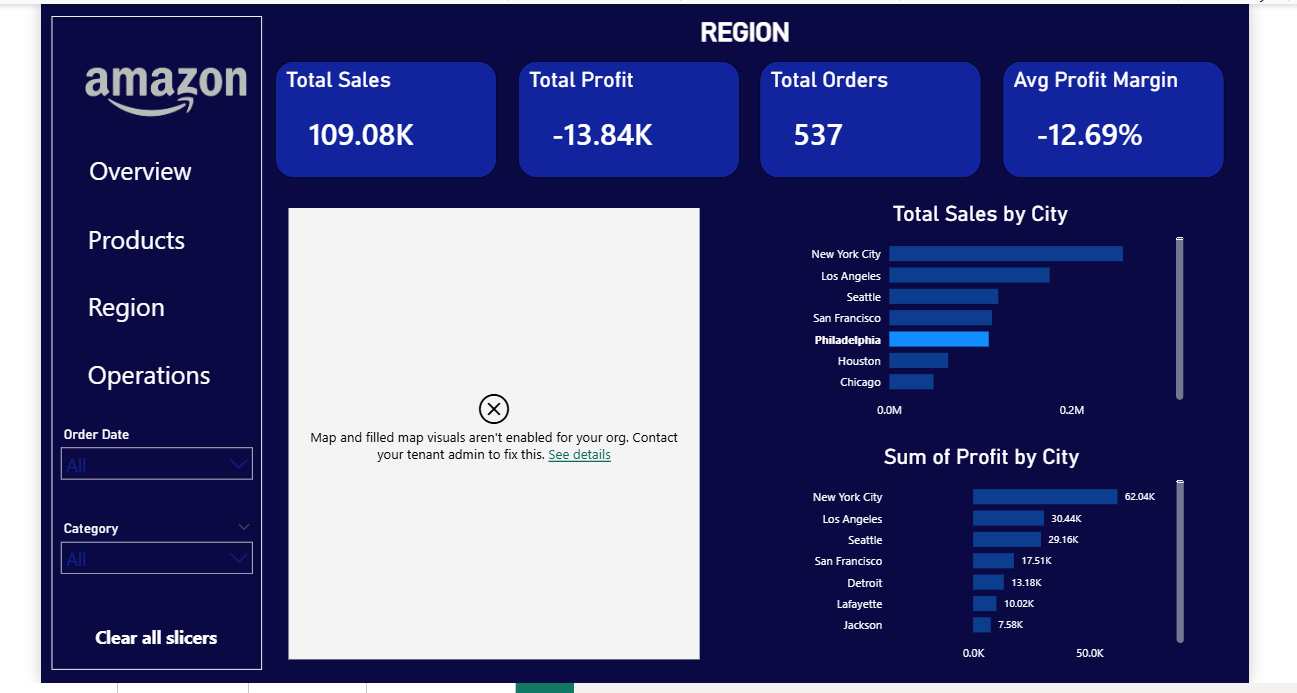

Layout of this report page (visuals, bound fields, positions):
{"tool":"powerbi","page":{"name":"Region","canvas":[1280,720],"ordinal":2},"visuals":[{"type":"cardVisual","title":"Avg Profit Margin","fields":{"Data":["Orders.Avg Profit Margin"]},"box":[1019.6,60.4,235.4,124.1],"z":0},{"type":"cardVisual","title":"Total Orders","fields":{"Data":["Orders.Total Orders"]},"box":[762.4,60.4,235,124],"z":1000},{"type":"cardVisual","title":"Total Profit","fields":{"Data":["Orders.Total Profit"]},"box":[505.3,60.4,235,124.1],"z":2000},{"type":"cardVisual","title":"Total Sales","fields":{"Data":["Orders.Total Sales"]},"box":[248.1,60.4,235,124],"z":3000},{"type":"barChart","title":"Total Sales by City","fields":{"Y":["Orders.Total Sales"],"Category":["Orders.City"]},"box":[776.2,208.4,440,240],"z":4000},{"type":"textbox","title":"REGION","box":[261.7,13.3,968.3,60],"z":5000},{"type":"barChart","fields":{"Category":["Orders.City"],"Y":["Sum(Orders.Profit)"]},"box":[777.8,466,439,240.2],"z":6000},{"type":"shape","box":[11.7,13.3,223.3,693.3],"z":7000},{"type":"image","box":[36.7,13.3,196.7,170],"z":8000},{"type":"actionButton","box":[38.3,143.3,196.7,65],"z":9000},{"type":"actionButton","box":[36.7,360,196.7,65],"z":10000},{"type":"actionButton","box":[36.7,287.8,196.7,65],"z":11000},{"type":"actionButton","box":[36.7,215.6,196.7,65],"z":12000},{"type":"slicer","fields":{"Values":["Orders.Order Date"]},"box":[11.7,441.7,223.3,100],"z":13000},{"type":"slicer","fields":{"Values":["Orders.Category"]},"box":[11.7,541.7,223.3,103.3],"z":14000},{"type":"actionButton","box":[11.7,645,221.7,50],"z":15000},{"type":"map","fields":{"Category":["Orders.State"]},"box":[262.5,216.3,435.8,478.8],"z":16000}]}

Visuals, with their boxes on the page's 1280x720 design canvas (x1, y1, x2, y2). These are canvas units, not pixel positions in the 1297x693 screenshot, which may show the page scaled, cropped or inside an application window:
"Avg Profit Margin" cardVisual: bbox(1020, 60, 1255, 184)
"Total Orders" cardVisual: bbox(762, 60, 997, 184)
"Total Profit" cardVisual: bbox(505, 60, 740, 184)
"Total Sales" cardVisual: bbox(248, 60, 483, 184)
"Total Sales by City" barChart: bbox(776, 208, 1216, 448)
"REGION" textbox: bbox(262, 13, 1230, 73)
barChart - Orders.City x Sum(Orders.Profit): bbox(778, 466, 1217, 706)
shape: bbox(12, 13, 235, 707)
image: bbox(37, 13, 233, 183)
actionButton: bbox(38, 143, 235, 208)
actionButton: bbox(37, 360, 233, 425)
actionButton: bbox(37, 288, 233, 353)
actionButton: bbox(37, 216, 233, 281)
slicer - Orders.Order Date: bbox(12, 442, 235, 542)
slicer - Orders.Category: bbox(12, 542, 235, 645)
actionButton: bbox(12, 645, 233, 695)
map - Orders.State: bbox(262, 216, 698, 695)
